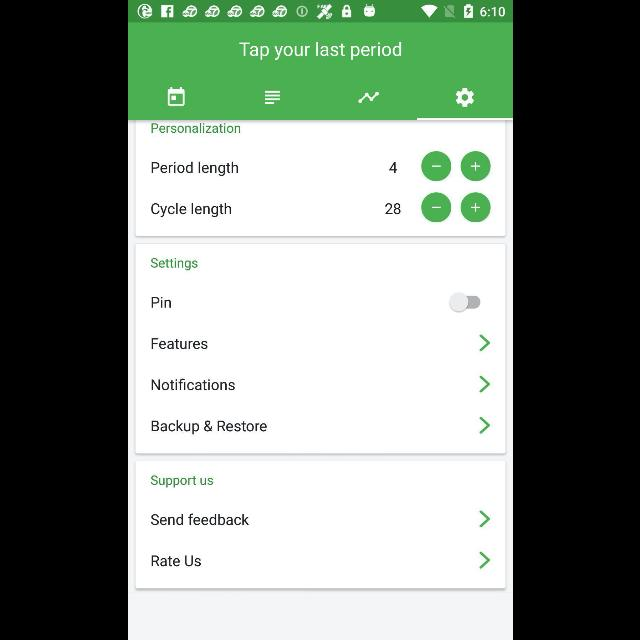icon: (460, 193, 490, 223), (421, 193, 451, 223), (460, 152, 490, 182), (421, 152, 451, 182), (454, 89, 474, 108), (168, 88, 185, 106), (358, 92, 378, 104), (264, 91, 280, 105), (478, 510, 489, 528), (478, 334, 489, 352), (478, 552, 489, 568), (478, 418, 489, 434), (478, 376, 489, 392)
panel: (134, 243, 506, 454), (134, 460, 506, 590), (134, 120, 506, 238)
switch: (448, 292, 480, 312)
text: (238, 41, 400, 60), (152, 420, 266, 434), (151, 202, 231, 218), (150, 162, 238, 176), (150, 513, 248, 525), (150, 122, 240, 134), (150, 378, 234, 390), (150, 474, 212, 488), (151, 338, 207, 349), (150, 258, 198, 270), (152, 556, 200, 566), (384, 203, 400, 215), (152, 298, 170, 308), (388, 162, 396, 172)
uppertaskbar: (128, 1, 512, 23)
